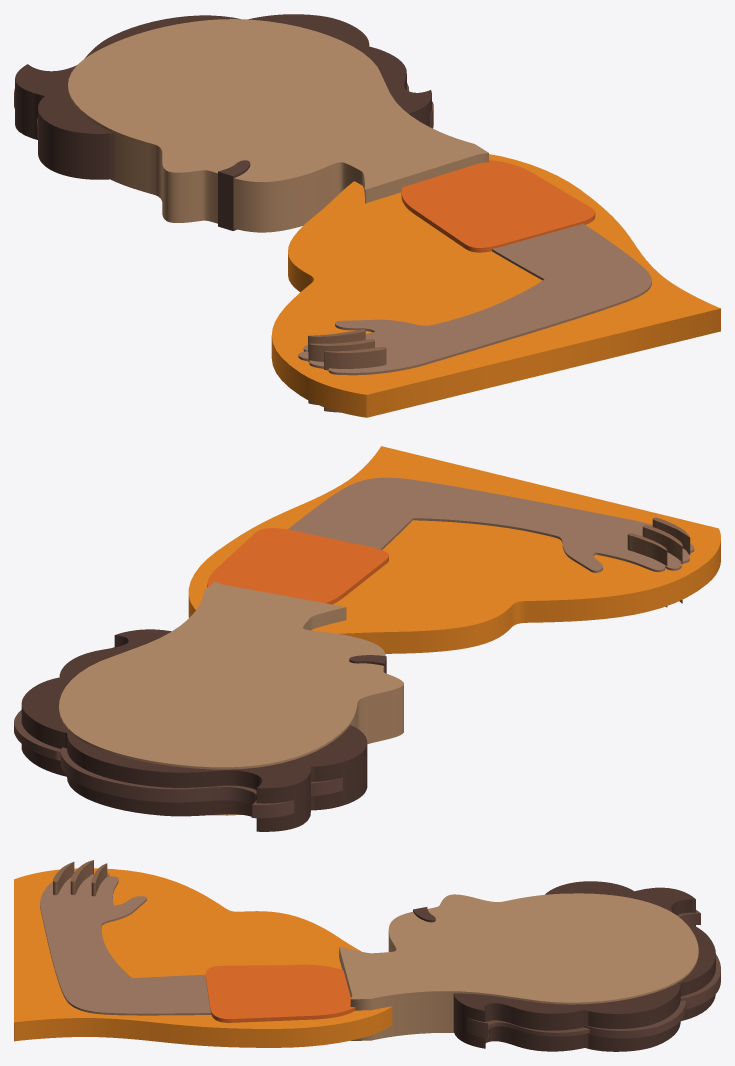
File: emoji_u1fac4_1f3fd.glb
3 views of the same model, one above another, from view 1: azimuth 30°, elevation 25°; view 2: azimuth 150°, elevation 25°; view 3: azimuth 270°, elevation 25° (orthographic). The views are drawn at different scales.
Visible parts, largest first — view 1: emoji_u1fac4_1f3fd; view 2: emoji_u1fac4_1f3fd; view 3: emoji_u1fac4_1f3fd.
Boxes of the visible parts, x1,y1,x2,y2 form: emoji_u1fac4_1f3fd: [14, 14, 720, 417]; emoji_u1fac4_1f3fd: [14, 446, 720, 831]; emoji_u1fac4_1f3fd: [14, 860, 720, 1051].
Size of the model in its own units: 0.0182 by 0.0026 by 0.0338.
